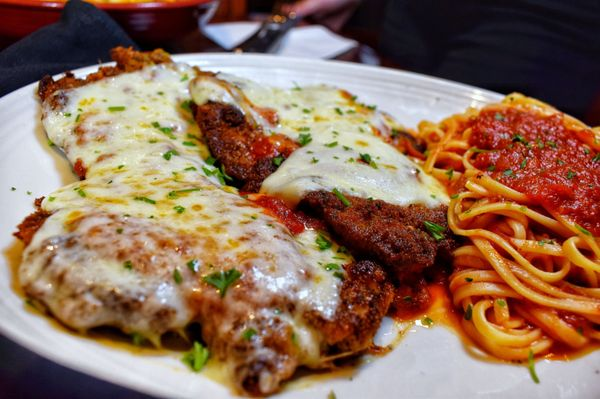sandwich: (3, 48, 537, 388)
